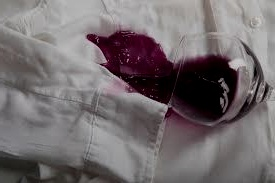wine: (96, 39, 218, 107), (89, 27, 164, 79)
